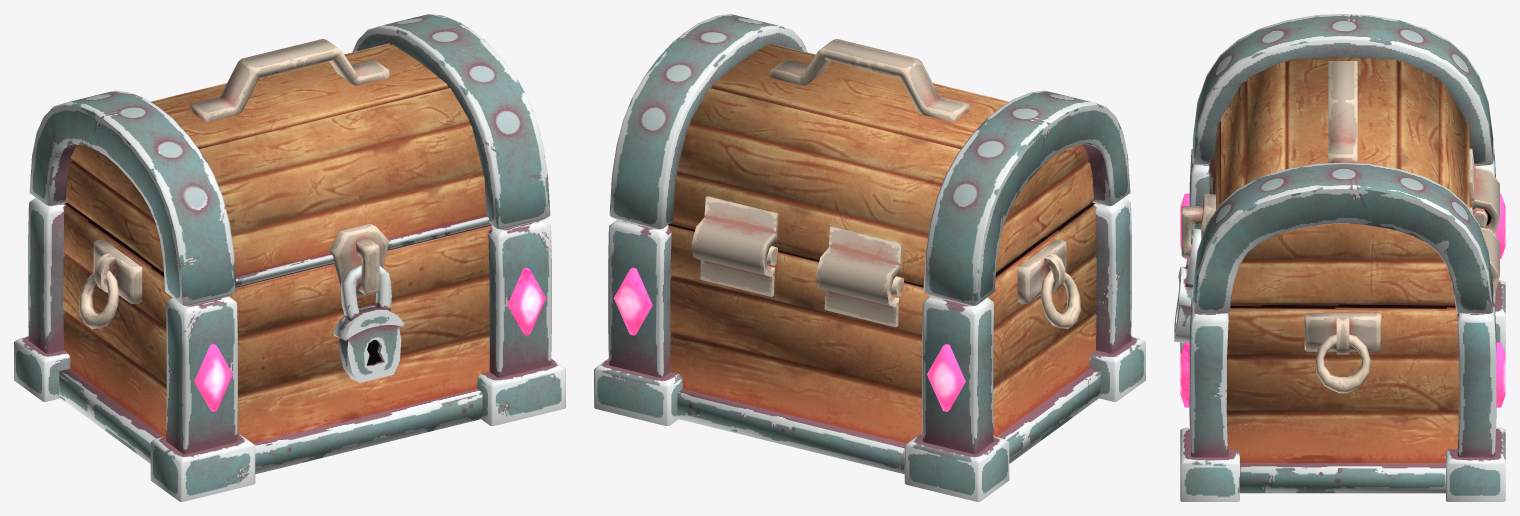
File: boxi.glb
3 views of the same model, side by side, from view 1: azimuth 30°, elevation 25°; view 2: azimuth 150°, elevation 25°; view 3: azimuth 270°, elevation 25° (orthographic). The views are drawn at different scales.
Visible parts, largest first — view 1: main_low, second_low, third_low, fourth_low; view 2: main_low, second_low, fourth_low, third_low; view 3: main_low, second_low, fourth_low, third_low.
Boxes of the visible parts, box(x1,y1,x2,y2) form: main_low: box(59, 43, 491, 474); second_low: box(14, 14, 565, 501); third_low: box(79, 265, 545, 411); fourth_low: box(93, 223, 389, 304); main_low: box(668, 43, 1100, 474); second_low: box(594, 14, 1145, 501); fourth_low: box(691, 196, 1066, 327); third_low: box(614, 267, 1080, 411); main_low: box(1209, 57, 1471, 493); second_low: box(1180, 14, 1505, 501); fourth_low: box(1181, 148, 1499, 354); third_low: box(1174, 193, 1505, 407).
Size of the model in its own units: 308 by 244 by 222.
1 material, 1 textured.
